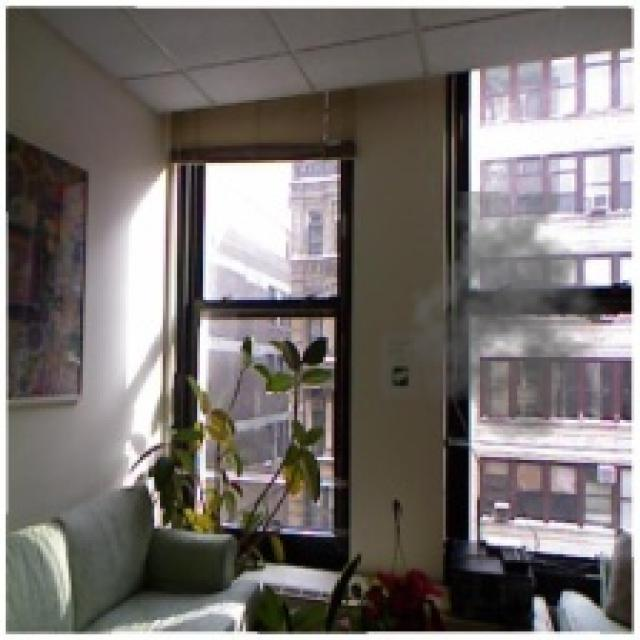smoke: (400, 191, 623, 443)
